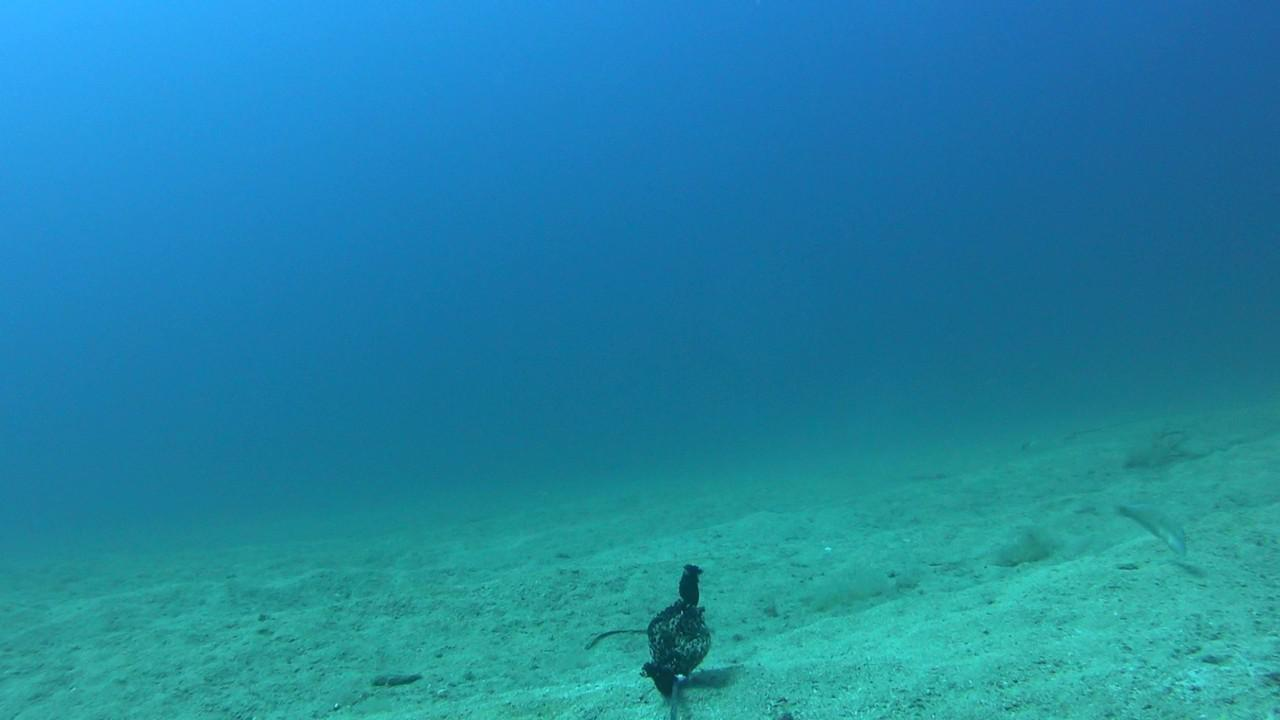myliobatis: (983, 407, 1141, 467)
raor: (1107, 498, 1196, 566)
